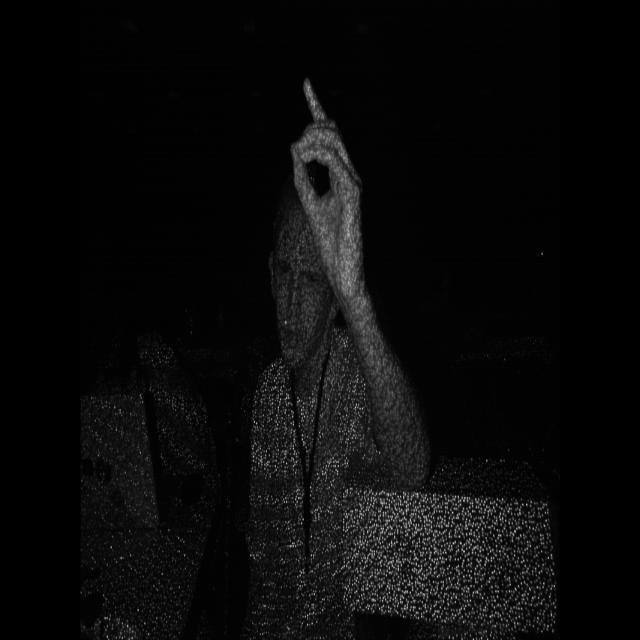D: (280, 65, 378, 313)
